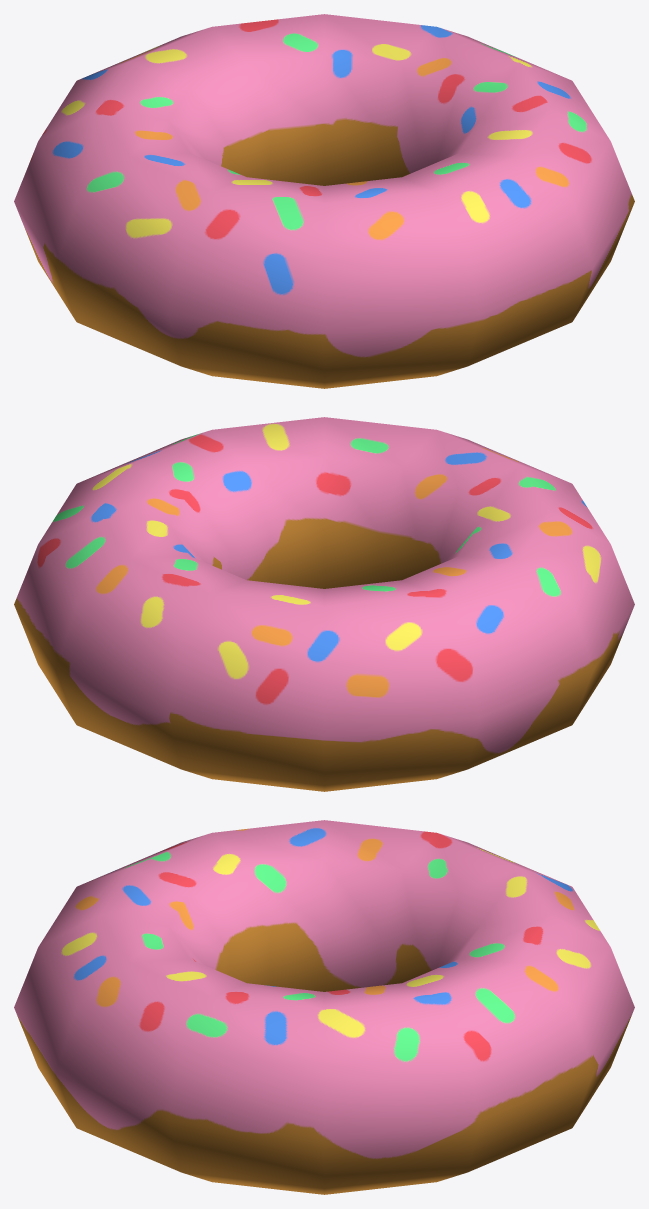
File: Donut.FBX
3 views of the same model, one above another, from view 1: azimuth 30°, elevation 25°; view 2: azimuth 150°, elevation 25°; view 3: azimuth 270°, elevation 25° (orthographic).
Parts seen in each view (by area): view 1: Torus001; view 2: Torus001; view 3: Torus001.
Boxes of the visible parts, x1=… form: Torus001: x1=14, y1=14, x2=634, y2=388; Torus001: x1=14, y1=417, x2=634, y2=791; Torus001: x1=14, y1=820, x2=634, y2=1194.
Size of the model in its own units: 337 by 111 by 337.
